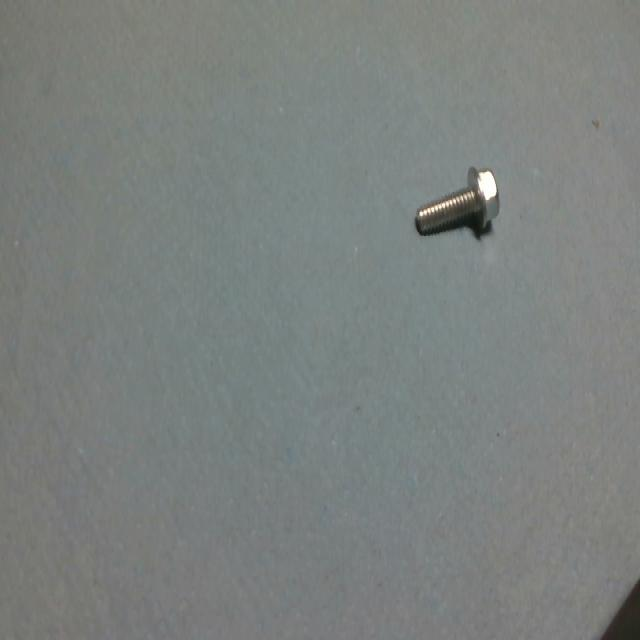Bolt: (409, 159, 507, 253)
